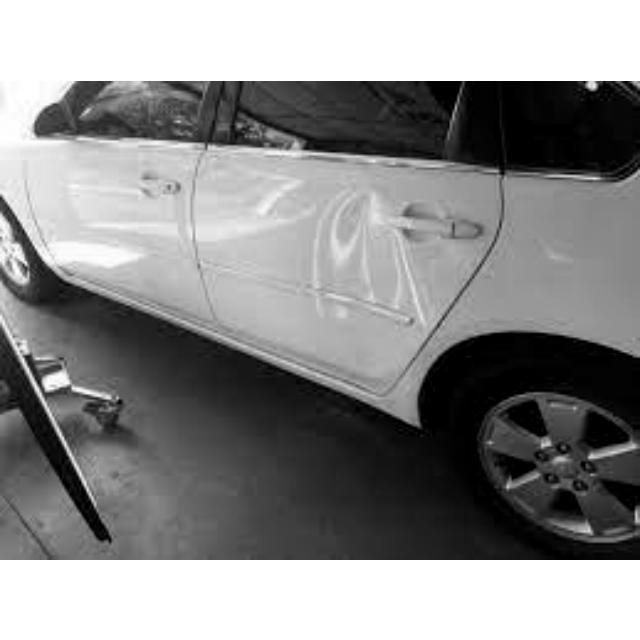doorouter-dent: (304, 170, 422, 345)
